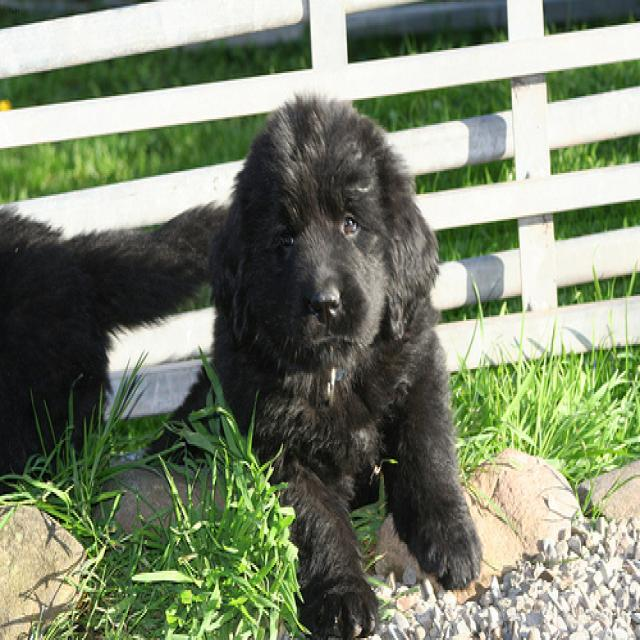dog-newfoundland: (138, 85, 493, 636)
